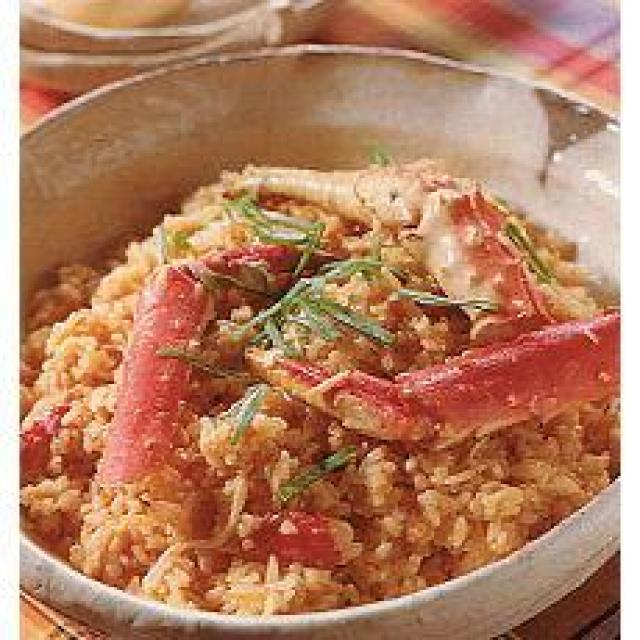米饭主食: (22, 128, 607, 640)
